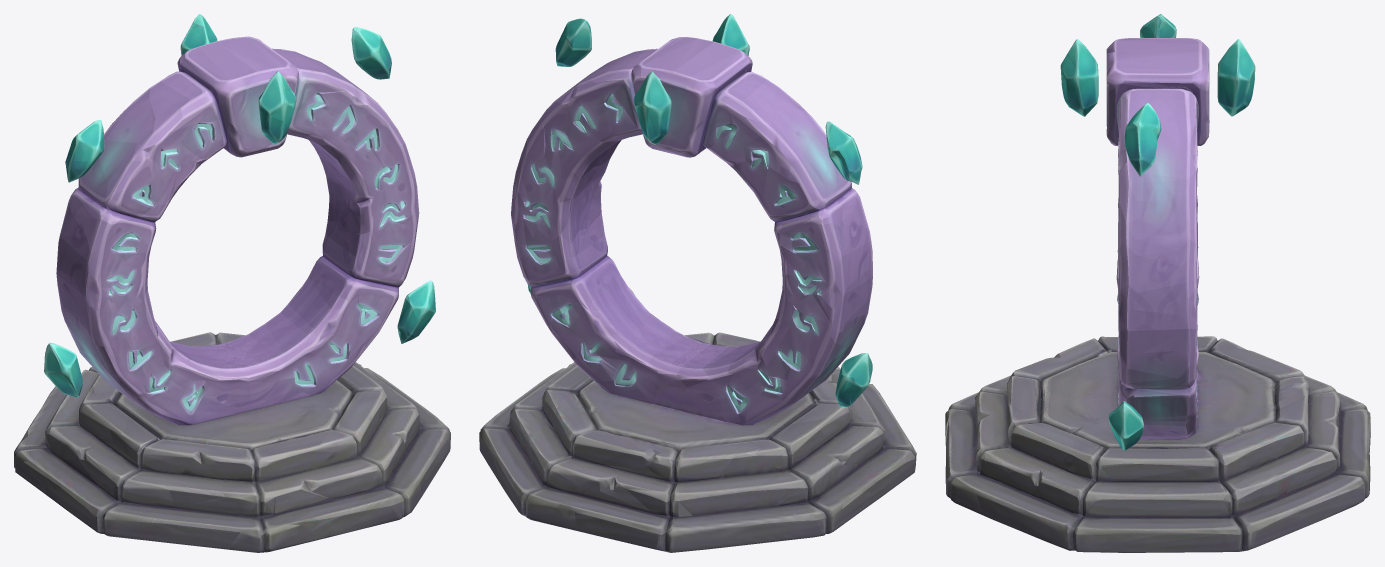
Rendered from portal_gate.fbx.
3 renders of one model, left to right at view 1: azimuth 30°, elevation 25°; view 2: azimuth 150°, elevation 25°; view 3: azimuth 270°, elevation 25°, orthographic. The views are drawn at different scales.
Parts seen in each view (by area): view 1: portal_gate; view 2: portal_gate; view 3: portal_gate.
Boxes of the visible parts, x1,y1,x2,y2 form: portal_gate: (14,14,450,552); portal_gate: (479,14,916,552); portal_gate: (945,14,1370,552).
Bounding box in the file's own units: 4.94 × 5.4 × 4.84.
